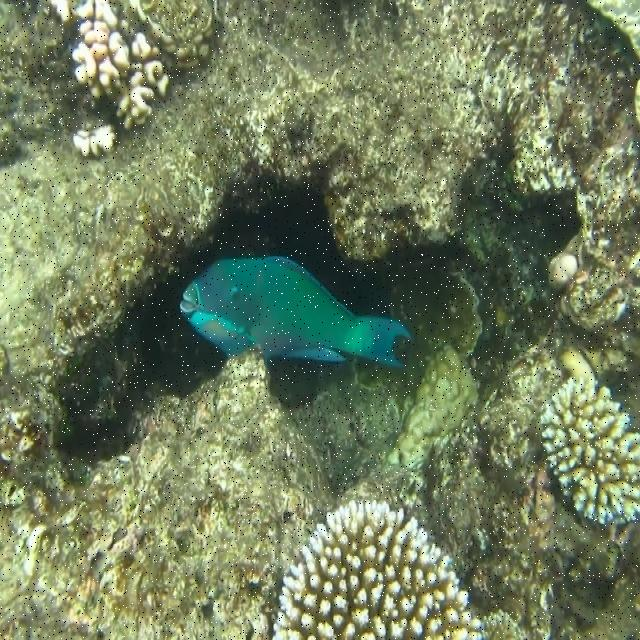fish: (179, 256, 411, 369)
reefs: (272, 499, 483, 637), (539, 374, 639, 526), (71, 0, 170, 130), (72, 124, 118, 159), (50, 1, 70, 23)
